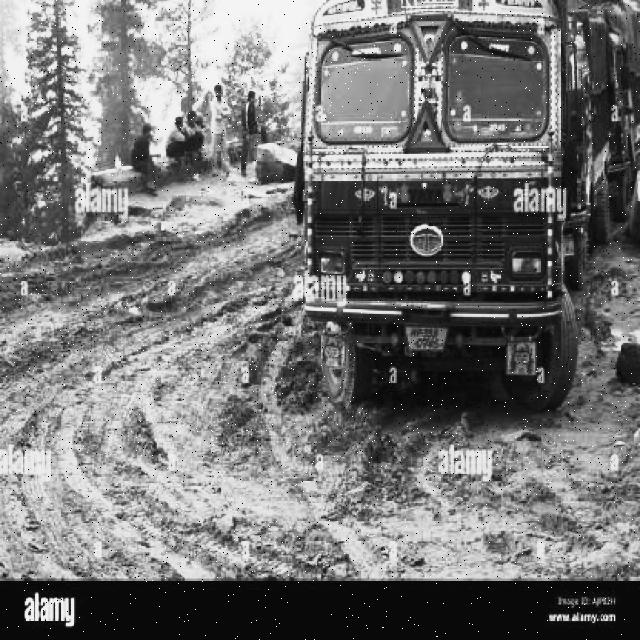HCV: (292, 20, 606, 405)
